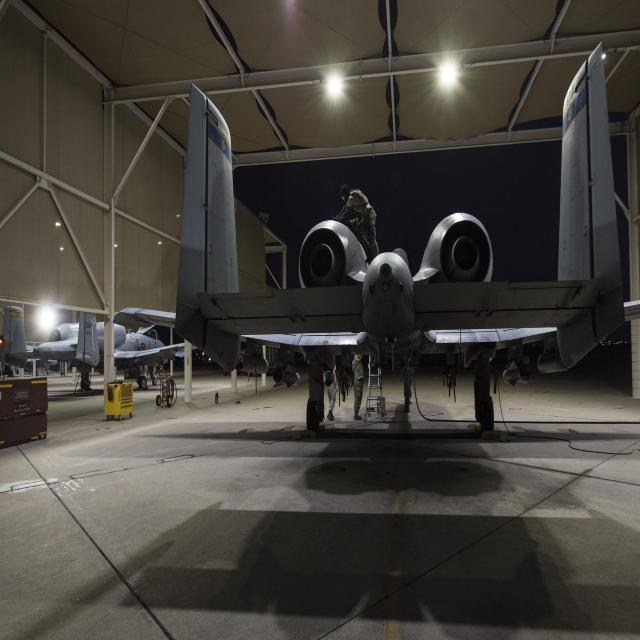MIL_Plane: (112, 41, 640, 430), (0, 306, 198, 390)
